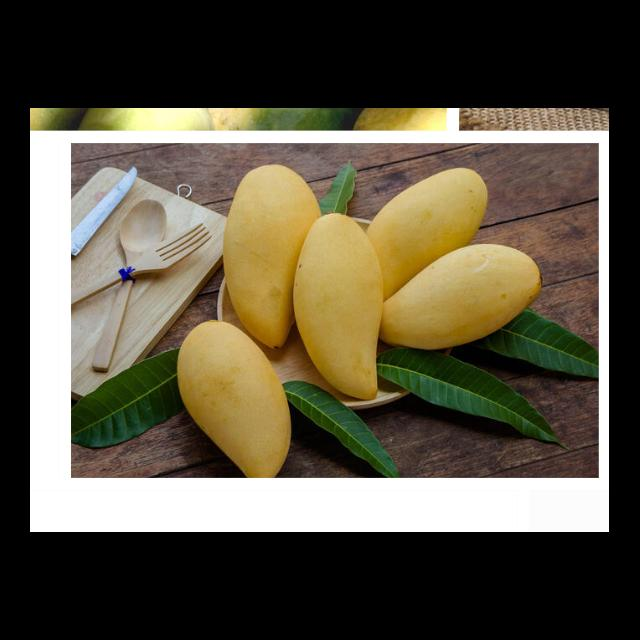mango: (178, 319, 292, 476), (224, 165, 317, 351), (296, 211, 386, 398), (366, 165, 488, 301), (381, 245, 538, 347)
